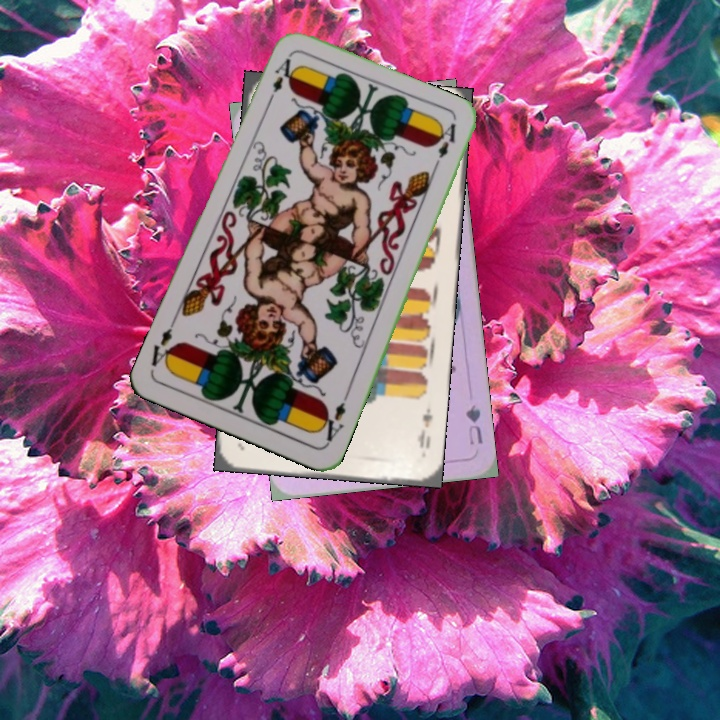E9: (413, 404, 436, 451)
EA: (315, 390, 351, 447), (268, 52, 294, 95)
GU: (461, 400, 486, 448)
